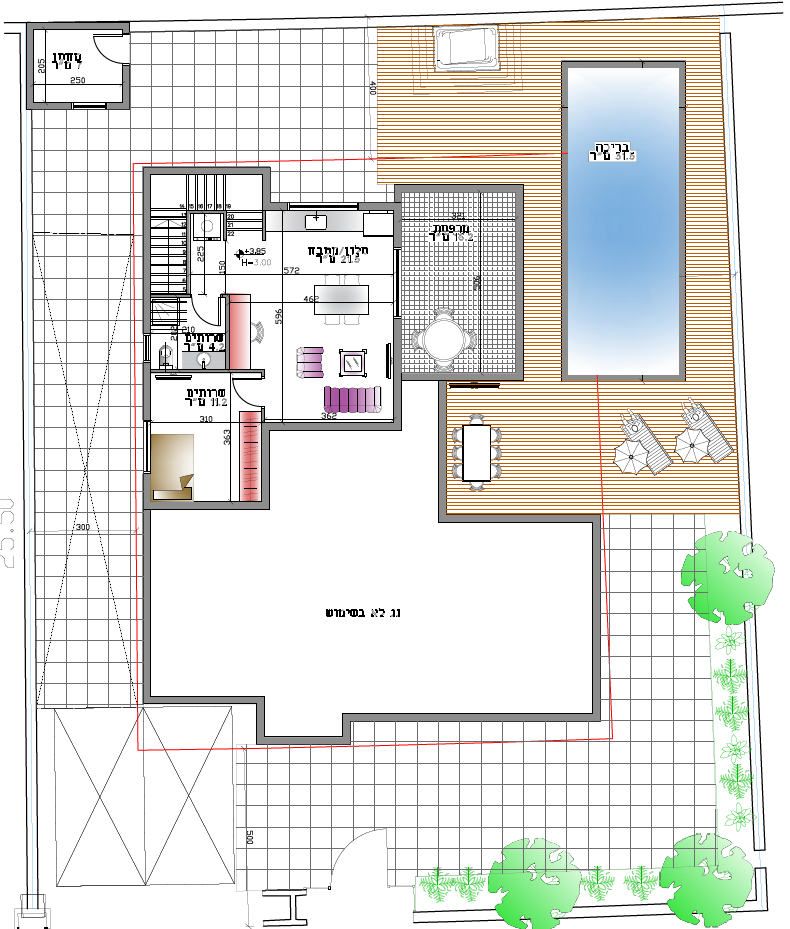door: (90, 32, 119, 67), (188, 301, 224, 329), (231, 376, 259, 408)
wall: (346, 714, 592, 720), (515, 187, 522, 380), (142, 511, 149, 697), (680, 112, 685, 372), (440, 514, 591, 522), (593, 519, 599, 711), (142, 169, 149, 327), (562, 155, 567, 376), (438, 383, 444, 517), (394, 322, 400, 428), (402, 374, 521, 379), (399, 186, 517, 191), (144, 697, 262, 702), (259, 737, 349, 743), (144, 368, 150, 415), (257, 698, 263, 741)
window: (287, 200, 359, 214), (390, 247, 404, 318), (140, 420, 152, 474), (139, 334, 154, 363)
